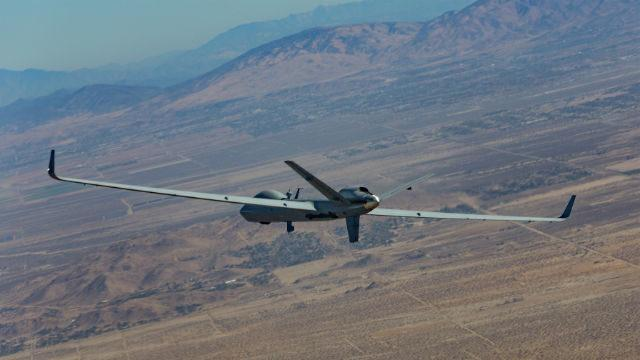Airplane: (43, 144, 580, 251)
